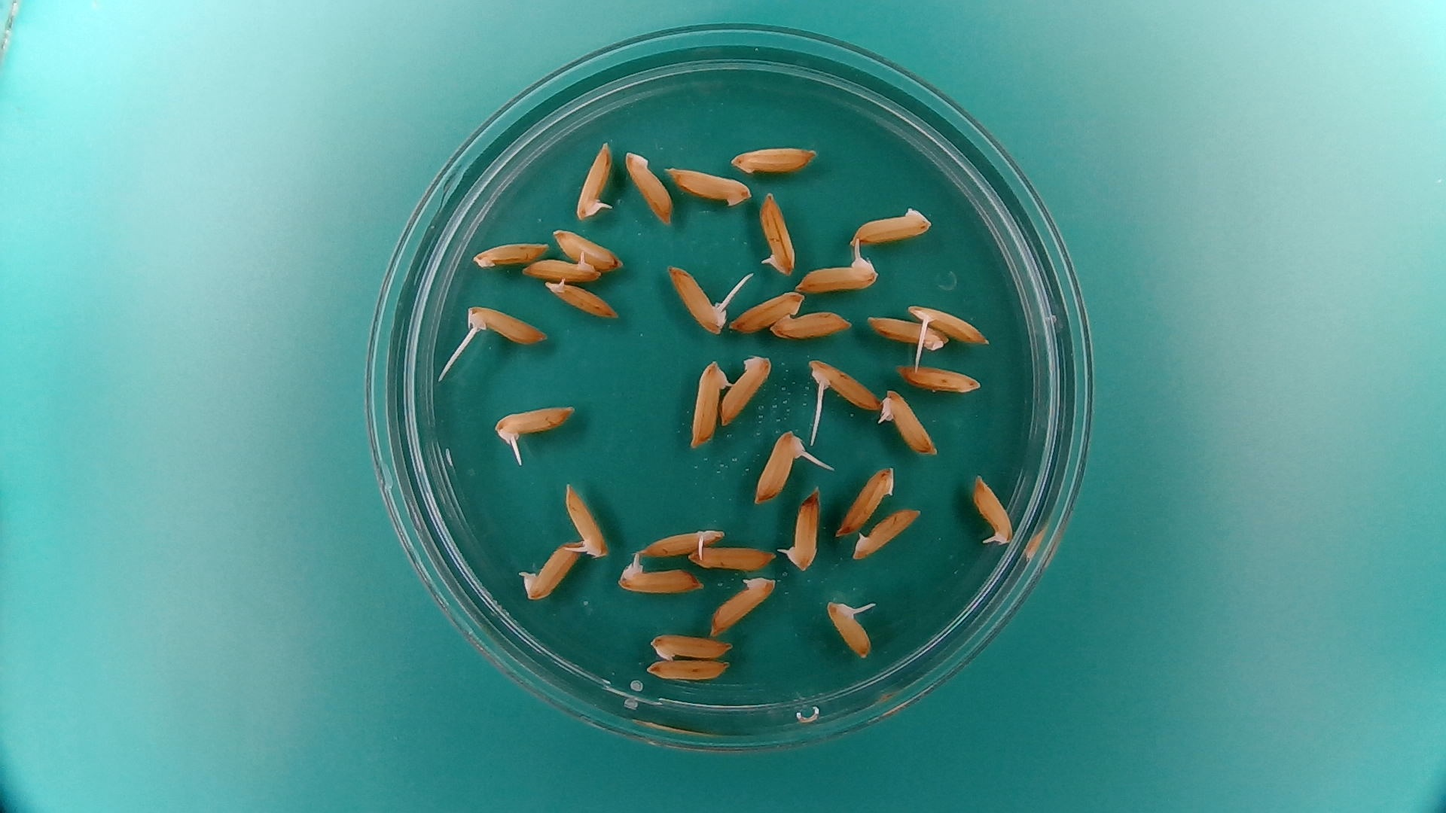no: (835, 463, 895, 537), (707, 573, 777, 635), (853, 502, 924, 562), (662, 163, 755, 208), (862, 311, 948, 358), (847, 200, 934, 246), (721, 355, 774, 428), (624, 153, 675, 227), (520, 540, 581, 601), (691, 359, 730, 450), (541, 277, 621, 321), (727, 139, 822, 176), (728, 289, 807, 333), (548, 228, 627, 271), (646, 627, 734, 664), (767, 310, 856, 342), (468, 236, 551, 270), (901, 364, 984, 396), (689, 544, 775, 573), (645, 656, 734, 683)
yes: (879, 387, 941, 457), (669, 268, 732, 334), (807, 360, 882, 413), (563, 479, 611, 561), (496, 399, 578, 445), (616, 554, 705, 596), (757, 190, 799, 277), (466, 302, 548, 343), (754, 430, 803, 498), (972, 474, 1015, 549), (634, 525, 725, 560), (911, 306, 986, 348), (784, 494, 822, 569), (825, 599, 874, 657), (576, 141, 612, 219), (799, 257, 876, 292), (520, 257, 605, 285)
